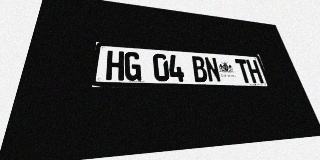0: (153, 53, 170, 81)
4: (167, 54, 185, 82)
B: (191, 56, 209, 82)
G: (124, 51, 141, 81)
H: (106, 50, 124, 80), (246, 59, 264, 83)
N: (204, 57, 222, 82)
T: (235, 59, 253, 83)
